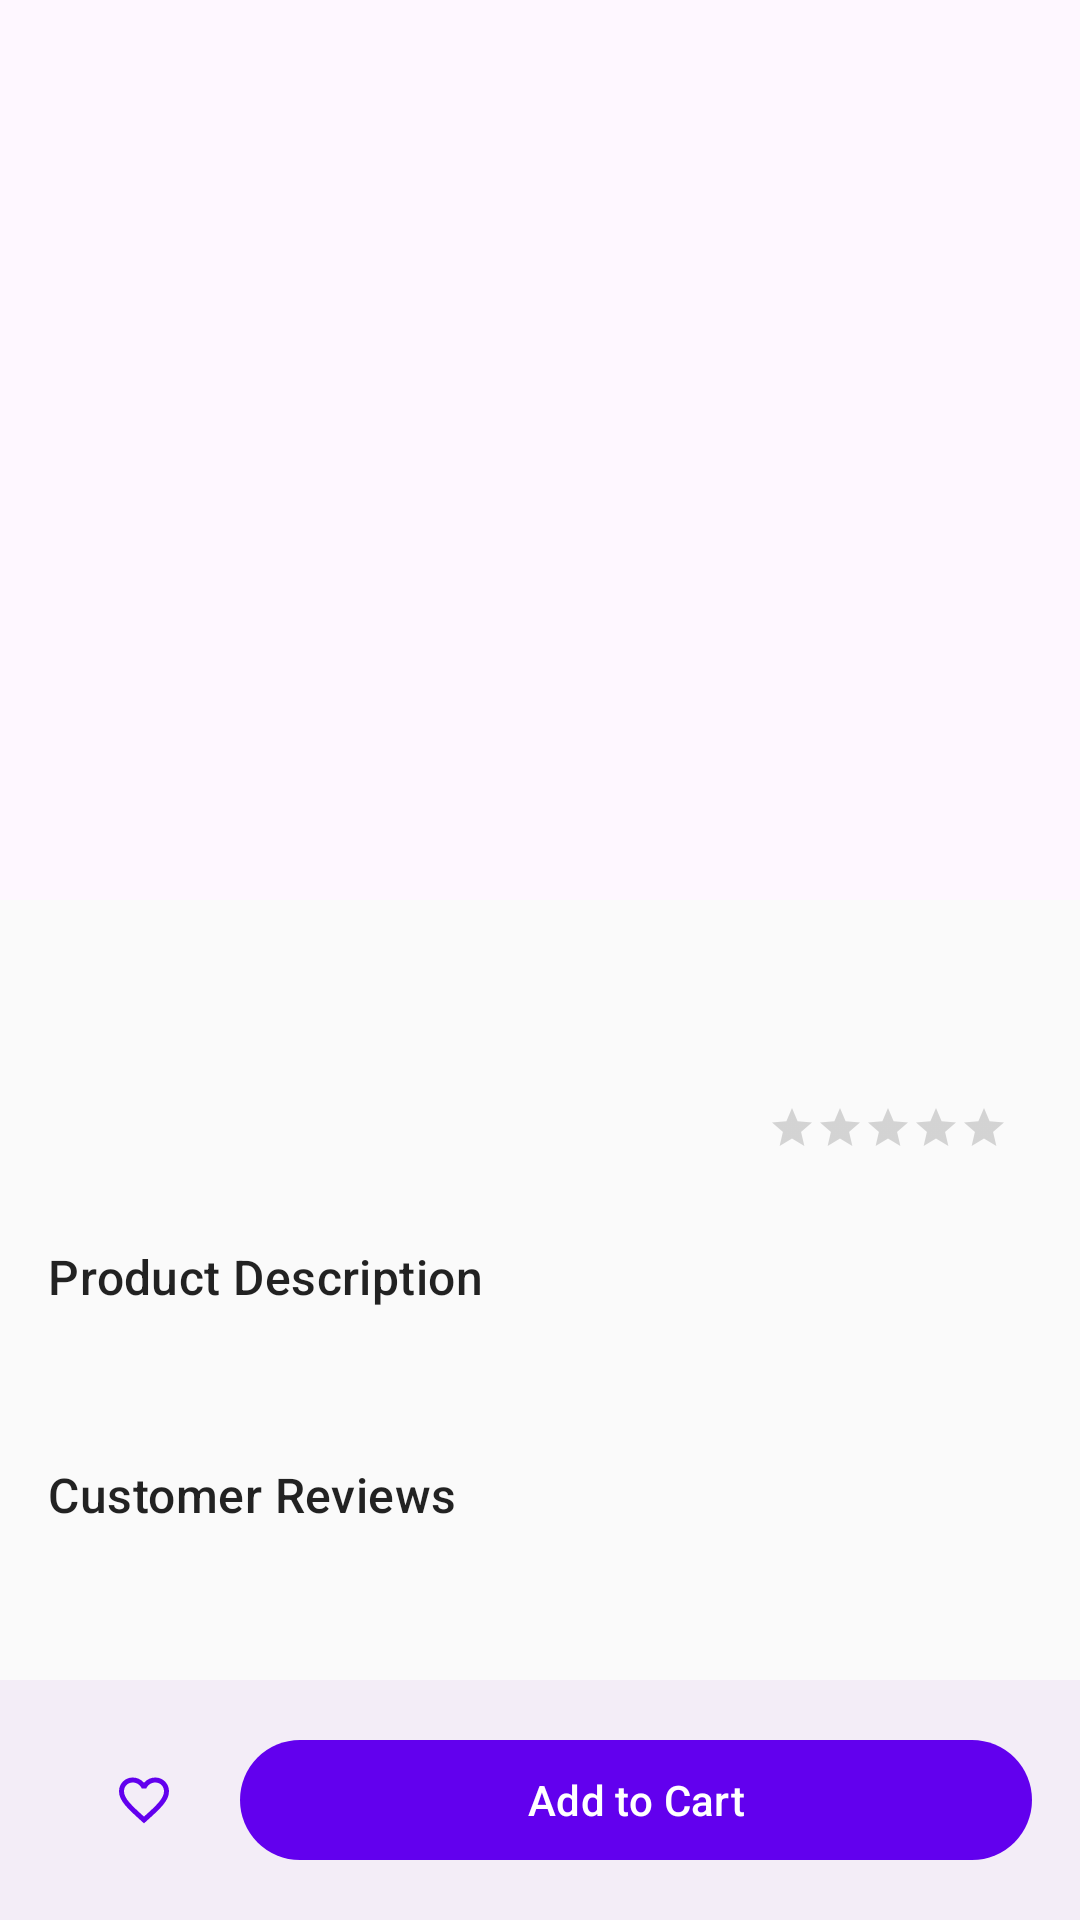

Where to tap for icons on this 1080×1920 app screen, as (x=x, y=y):
favorite border: (x=144, y=1800)
